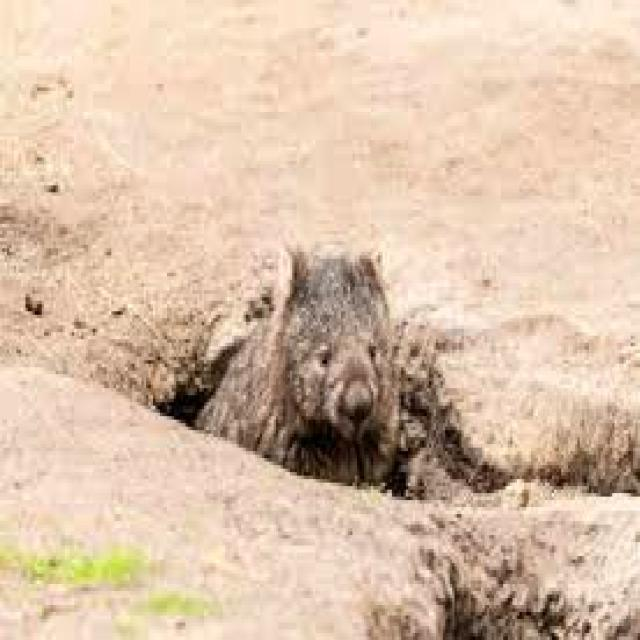wombats: (195, 248, 399, 479)
